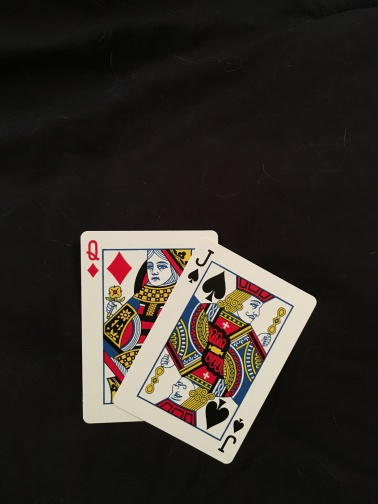jack: (122, 240, 317, 466)
queen: (80, 231, 187, 424)
